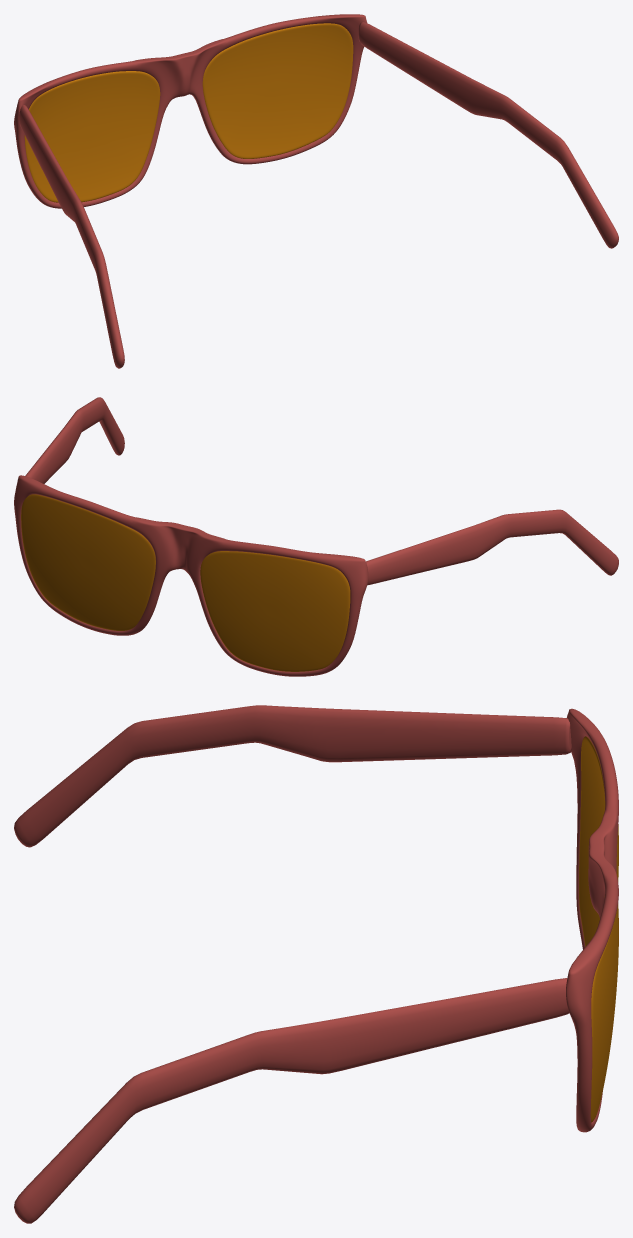
The model's file is carl_sunglasses.fbx.
The picture shows the model from 3 angles, top to bottom: view 1: azimuth 30°, elevation 25°; view 2: azimuth 150°, elevation 25°; view 3: azimuth 270°, elevation 25°; orthographic projection. The views are drawn at different scales.
Visible parts, largest first — view 1: lens.000; view 2: lens.000; view 3: lens.000.
Part boxes in pixels (x1,y1,x2,y2): lens.000: [14, 14, 618, 368]; lens.000: [14, 397, 618, 676]; lens.000: [14, 705, 618, 1223].
Bounding box in the file's own units: 18.15 × 4.56 × 12.08.
